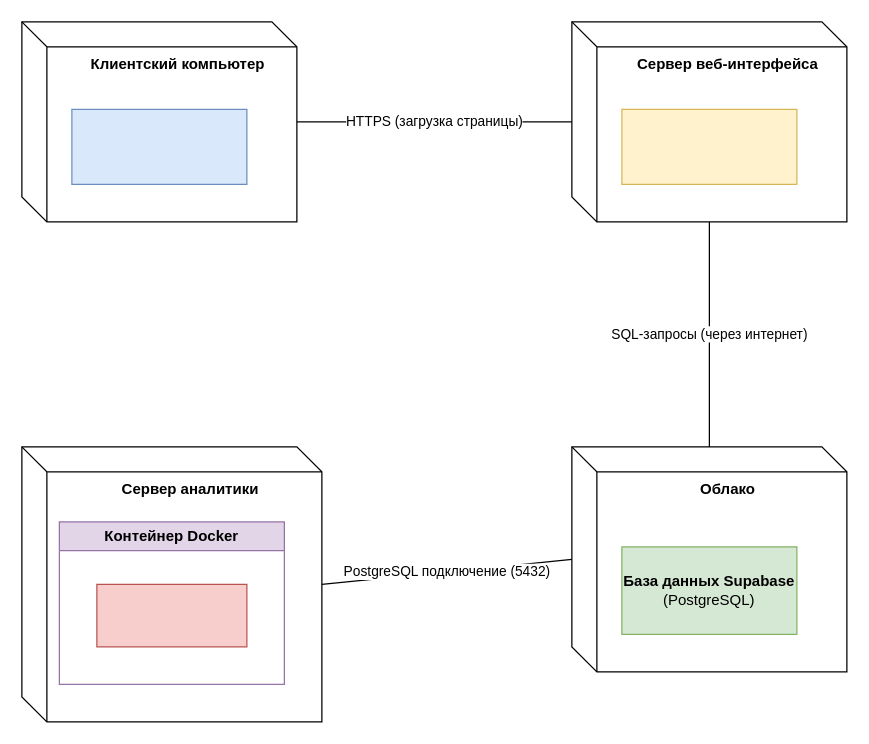
This 869x744 diagram has some shape labels left out. The centre of each missing label's shape, as x and y in pixels:
Grafana: (x=171, y=615)
Браузер: (x=159, y=146)
Статические файлы (buy_ticket.html): (x=709, y=146)
